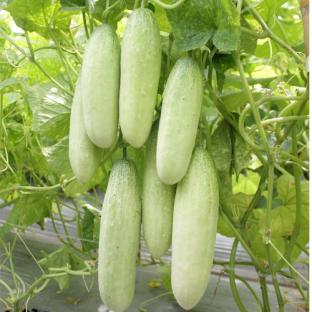Cucumber: (171, 148, 219, 309), (98, 159, 141, 311), (157, 57, 202, 184), (120, 9, 161, 147), (82, 25, 120, 147), (143, 121, 175, 258), (69, 75, 102, 183)
